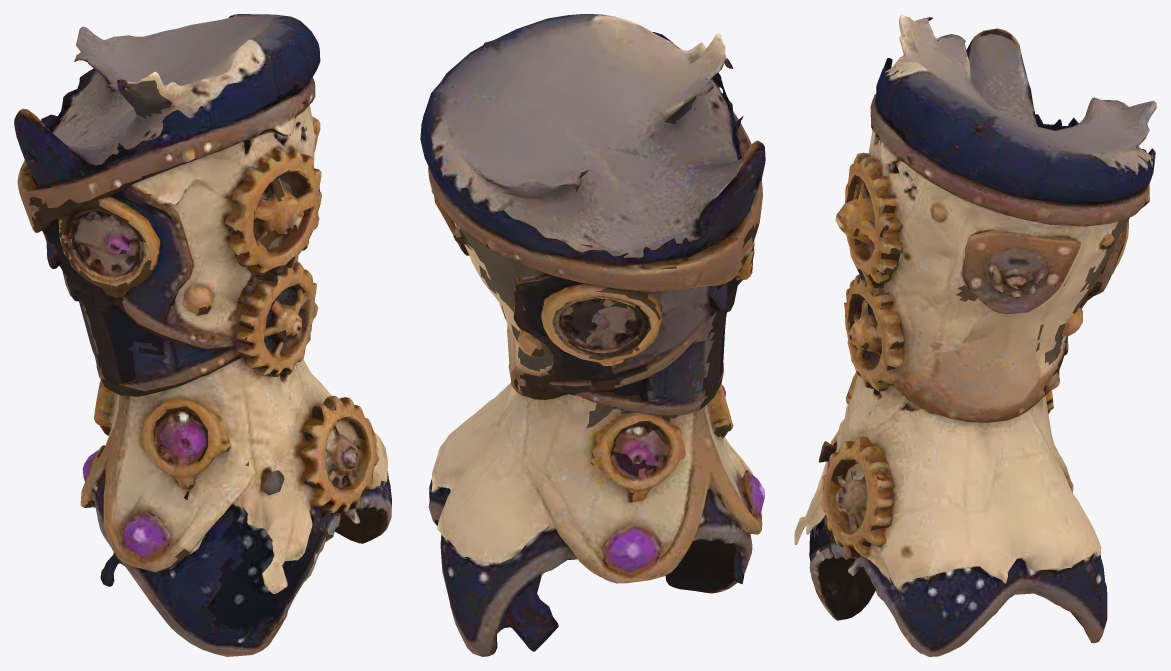
Rendered from tempo-bracal.glb.
3 views of the same model, side by side, from view 1: azimuth 30°, elevation 25°; view 2: azimuth 150°, elevation 25°; view 3: azimuth 270°, elevation 25° (orthographic). The views are drawn at different scales.
Visible parts, largest first — view 1: tripo_node_8204fdae-1dda-4ae6-9393-1cd4f0b2d842; view 2: tripo_node_8204fdae-1dda-4ae6-9393-1cd4f0b2d842; view 3: tripo_node_8204fdae-1dda-4ae6-9393-1cd4f0b2d842.
Boxes of the visible parts, x1,y1,x2,y2 form: tripo_node_8204fdae-1dda-4ae6-9393-1cd4f0b2d842: (14,14,391,656); tripo_node_8204fdae-1dda-4ae6-9393-1cd4f0b2d842: (420,14,765,656); tripo_node_8204fdae-1dda-4ae6-9393-1cd4f0b2d842: (794,14,1156,656).
Bounding box in the file's own units: 0.5994 × 0.9694 × 0.5566.
Materials: 1 (1 with a texture image).
